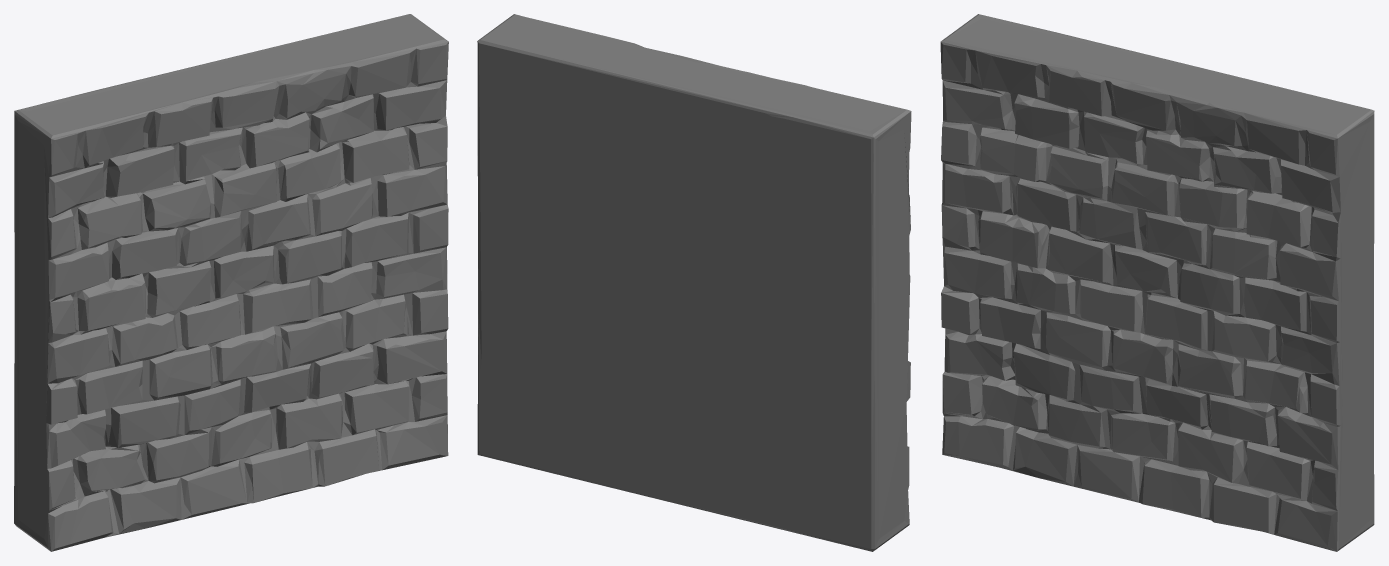
File: modular_wall_3x3m_e.FBX
3 views of the same model, side by side, from view 1: azimuth 30°, elevation 25°; view 2: azimuth 150°, elevation 25°; view 3: azimuth 330°, elevation 25° (orthographic).
Parts seen in each view (by area): view 1: modular_wall_3x3m_e; view 2: modular_wall_3x3m_e; view 3: modular_wall_3x3m_e.
Boxes of the visible parts, bbox=[...] form: modular_wall_3x3m_e: bbox=[14, 14, 448, 551]; modular_wall_3x3m_e: bbox=[477, 14, 911, 551]; modular_wall_3x3m_e: bbox=[940, 14, 1374, 551].
Bounding box in the file's own units: 3 × 3.01 × 0.5011.
